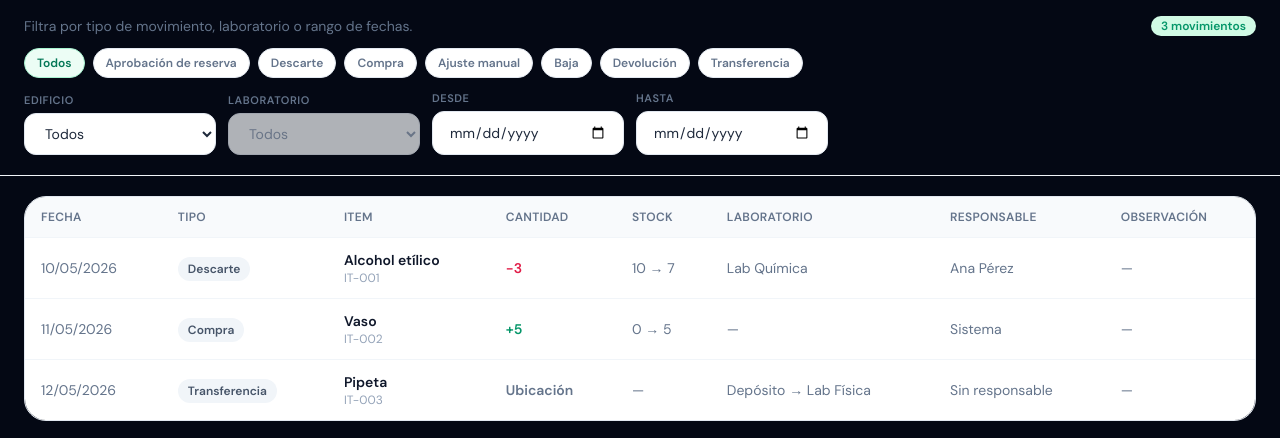
Test case: PanelMovimientos Component › limpiar filtros aparece solo con filtros activos y los resetea
The width and height of the screenshot is (1280, 438).
Check: the button "Limpiar filtros" is not shown
Click the button "Descarte": (297, 63) [258, 48, 336, 78]
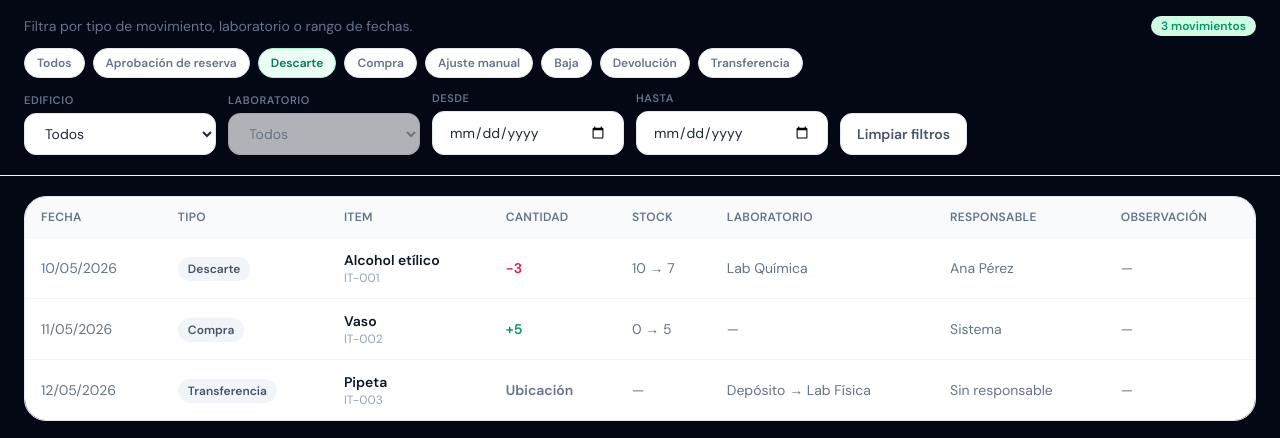
Click the button "Limpiar filtros": (904, 134) [840, 112, 967, 154]
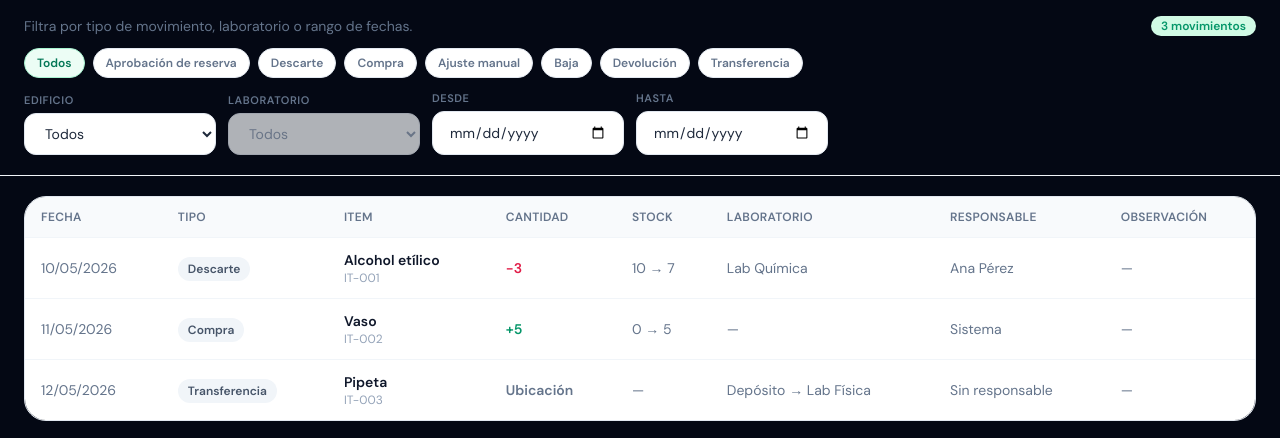
Check: the button "Limpiar filtros" is gone
